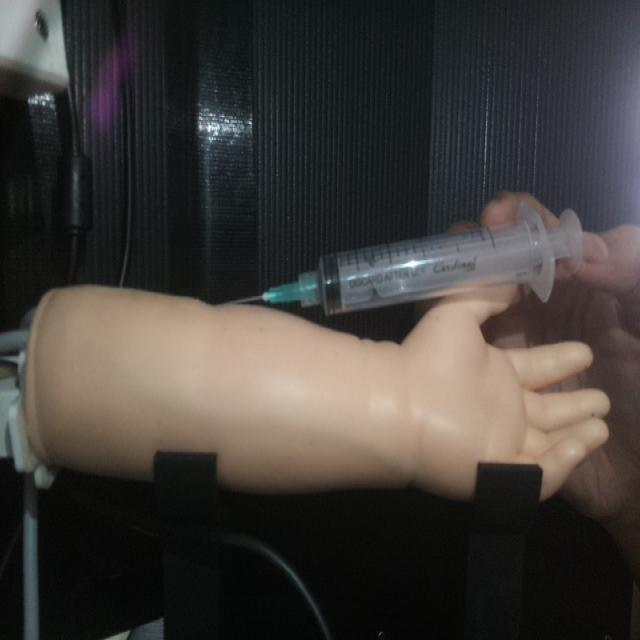Outside: (229, 198, 586, 318)
